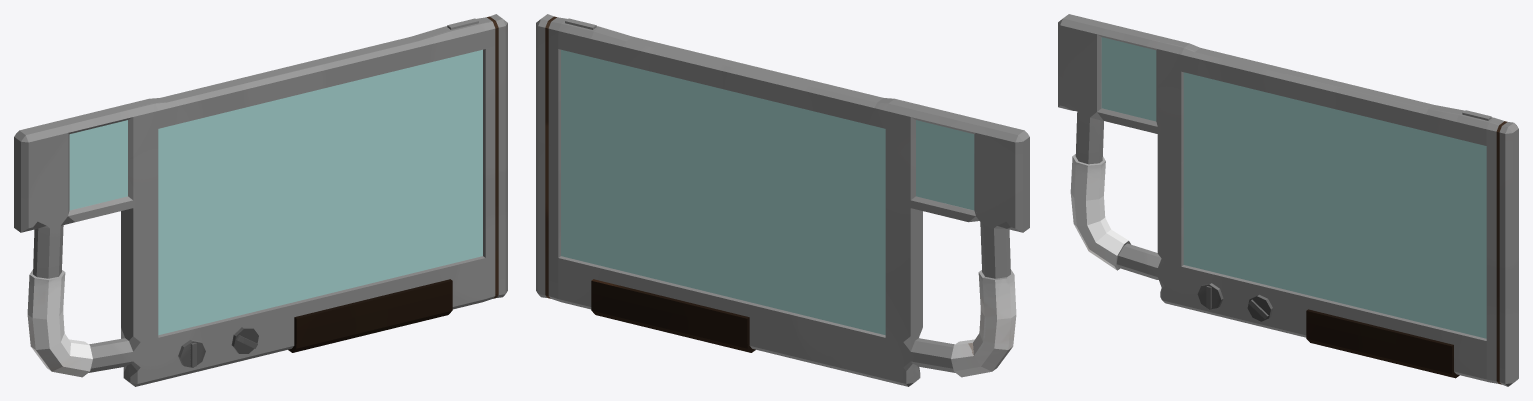
Rendered from Pantalla.fbx.
3 renders of one model, left to right at view 1: azimuth 30°, elevation 25°; view 2: azimuth 150°, elevation 25°; view 3: azimuth 330°, elevation 25°, orthographic. The views are drawn at different scales.
Visible parts, largest first — view 1: Pantalla; view 2: Pantalla; view 3: Pantalla.
Part boxes in pixels (bbox=[...]): Pantalla: bbox=[14, 14, 507, 386]; Pantalla: bbox=[536, 14, 1029, 386]; Pantalla: bbox=[1058, 14, 1518, 386].
Size of the model in its own units: 1.98 by 1.11 by 0.127.
